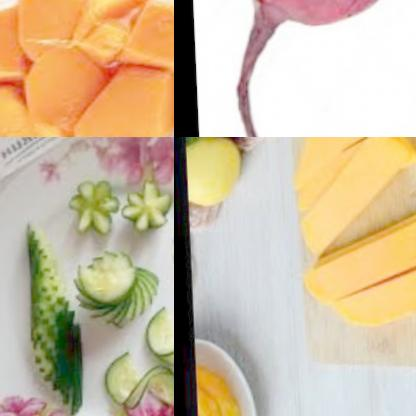beet: (225, 0, 400, 80)
cucumber: (12, 208, 98, 416), (61, 166, 174, 256), (67, 238, 163, 341), (94, 349, 174, 416), (130, 311, 174, 378)
pumpkin: (0, 0, 174, 137), (286, 137, 414, 258), (294, 208, 416, 319), (319, 257, 416, 341), (282, 137, 399, 196)
